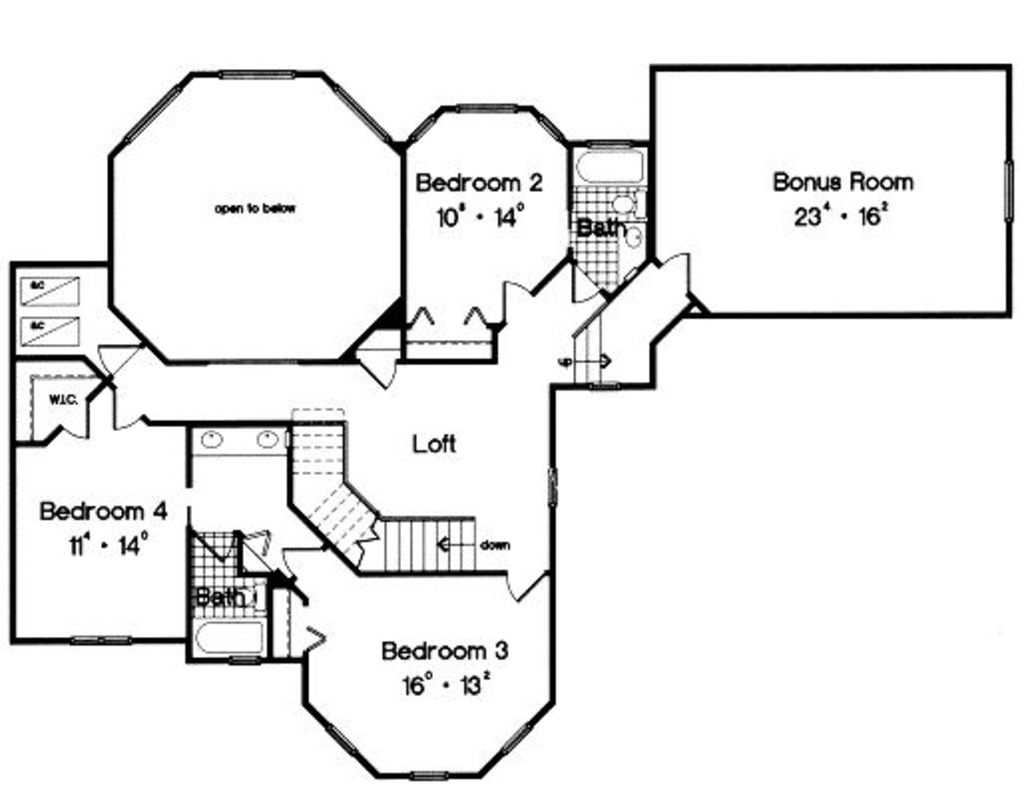door: (345, 341, 413, 396), (488, 565, 555, 608), (104, 386, 149, 442), (560, 258, 603, 314), (280, 540, 335, 583), (92, 334, 140, 383), (654, 249, 698, 296), (488, 277, 533, 321), (55, 403, 94, 449)
large_sink: (608, 184, 651, 219)
small_sink: (190, 419, 292, 458), (619, 223, 655, 261)
stairs: (304, 428, 497, 575), (566, 296, 662, 387)
tub: (566, 144, 661, 188), (191, 619, 271, 658)
window: (320, 715, 372, 762), (996, 160, 1024, 232), (504, 713, 538, 760), (70, 629, 135, 649)
